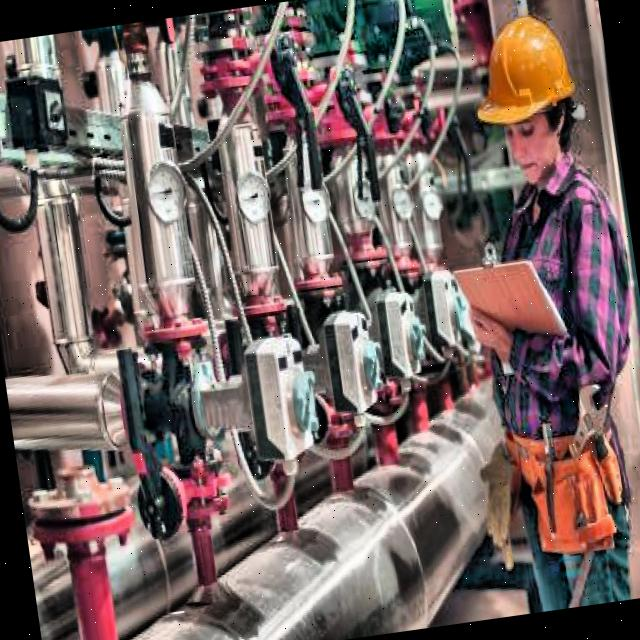helmet: (459, 0, 596, 206)
